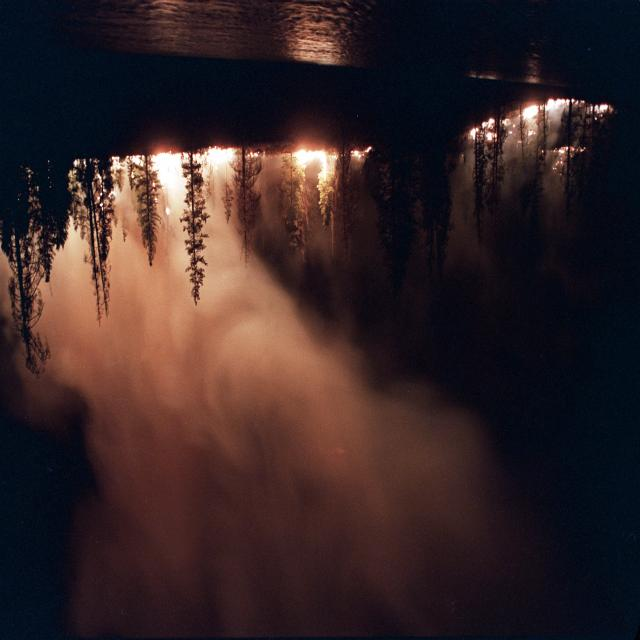fire: (49, 136, 388, 229), (468, 89, 621, 168)
